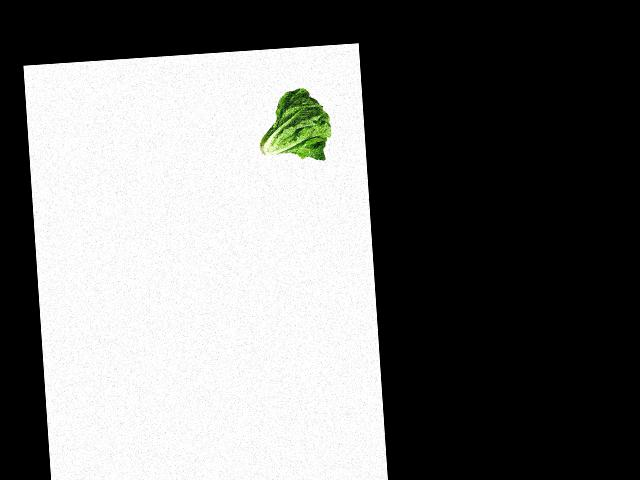lettuce: (252, 85, 333, 163)
